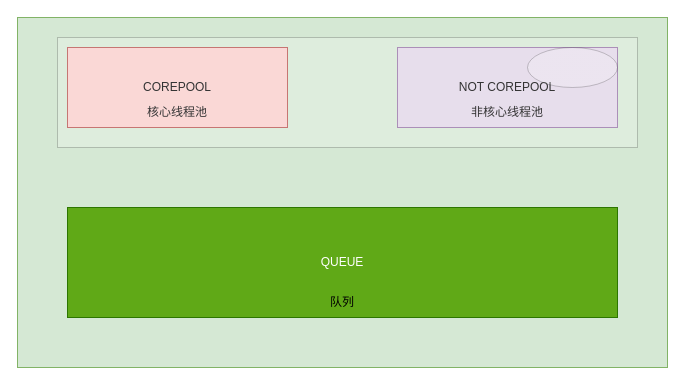
This 685x385 diagram has some shape labels left out. The centre of each missing label's shape, as x and y in pixels:
总线程数: (x=347, y=92)
有存活时间: (x=572, y=67)
